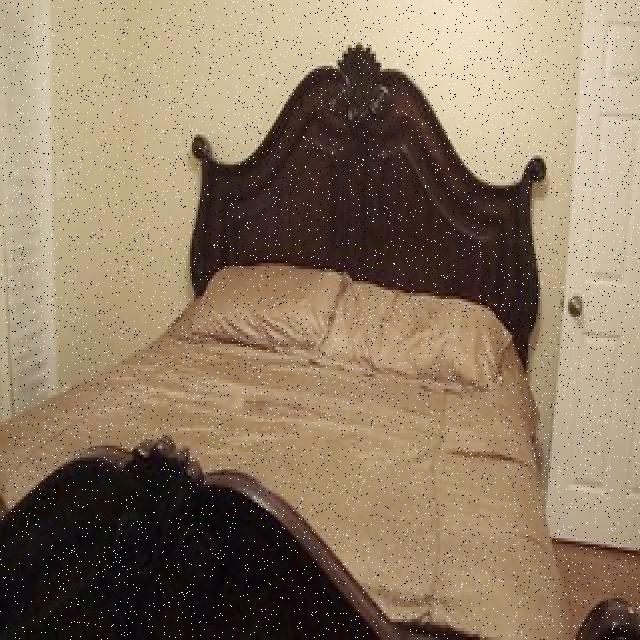bed: (8, 259, 554, 640)
